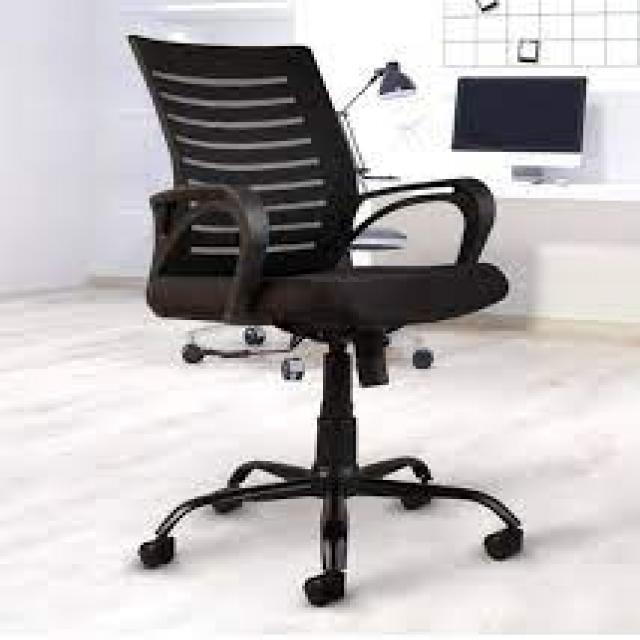chair: (122, 31, 529, 613)
